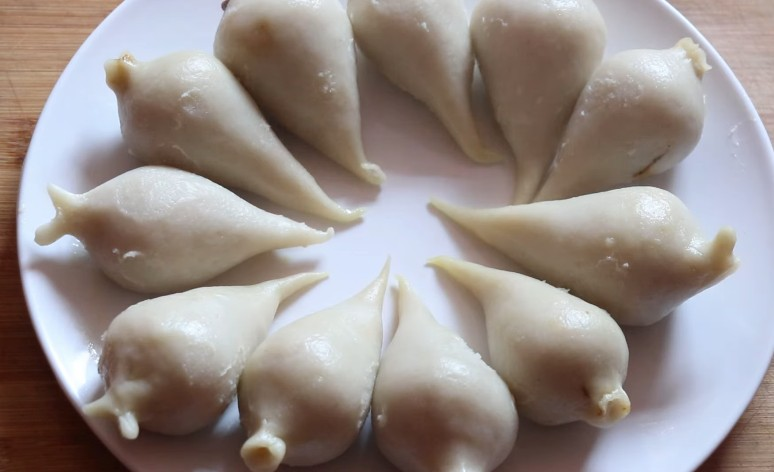yomari: (28, 183, 321, 270), (74, 288, 233, 441), (232, 317, 382, 468), (371, 0, 498, 177), (526, 192, 739, 292), (389, 298, 510, 472), (83, 36, 241, 141), (523, 314, 651, 438), (621, 27, 729, 151), (500, 8, 556, 198), (211, 0, 357, 71)
